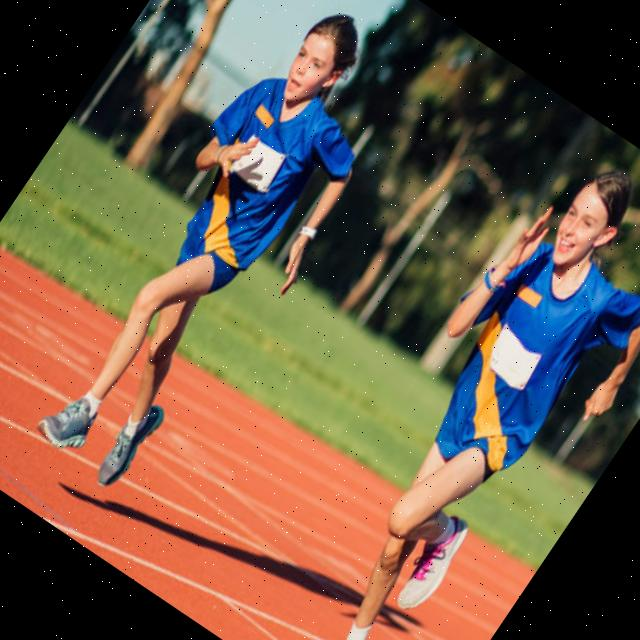Person: (7, 0, 434, 513), (229, 136, 640, 640)
